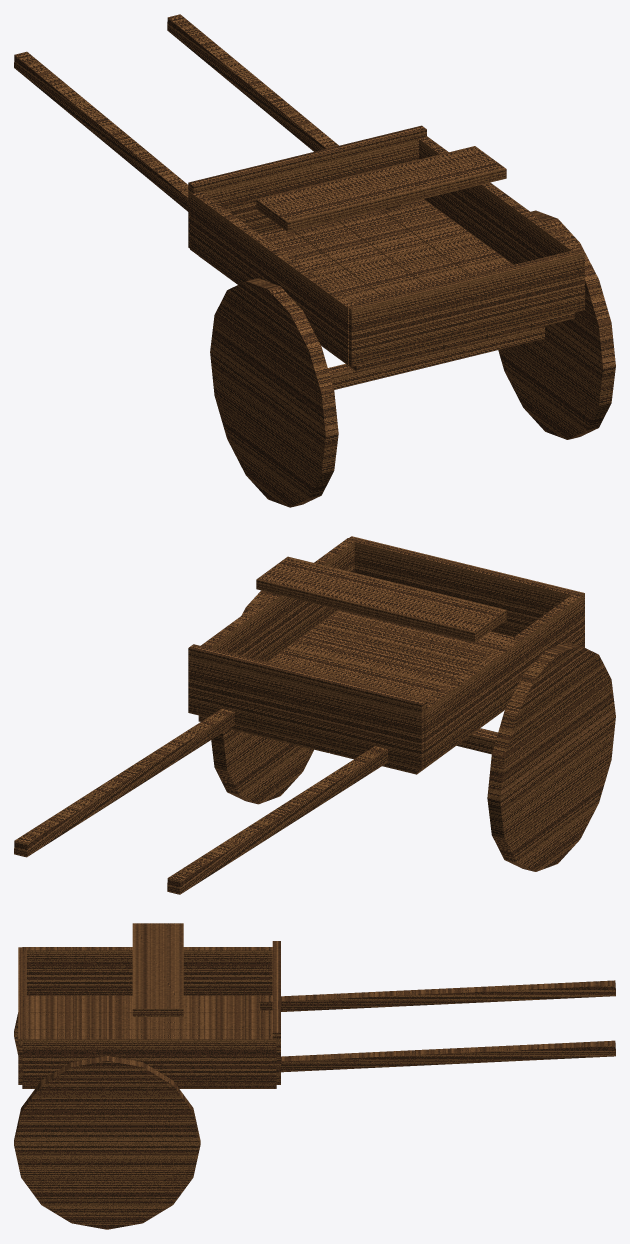
File: cart.glb
3 renders of one model, top to bottom at view 1: azimuth 30°, elevation 25°; view 2: azimuth 150°, elevation 25°; view 3: azimuth 270°, elevation 25°, orthographic. The views are drawn at different scales.
Parts seen in each view (by area): view 1: cart; view 2: cart; view 3: cart.
Part boxes in pixels (x1,y1,x2,y2): cart: [14, 14, 615, 507]; cart: [14, 536, 615, 894]; cart: [14, 923, 615, 1229].
Size of the model in its own units: 1.59 by 1.35 by 3.55.
Materials: 1 (1 with a texture image).
